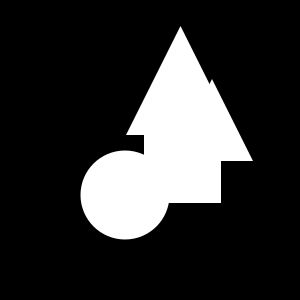circle: (144, 126, 221, 203)
rectangle: (80, 150, 170, 240)
triangle: (126, 26, 235, 135), (171, 79, 253, 161)
